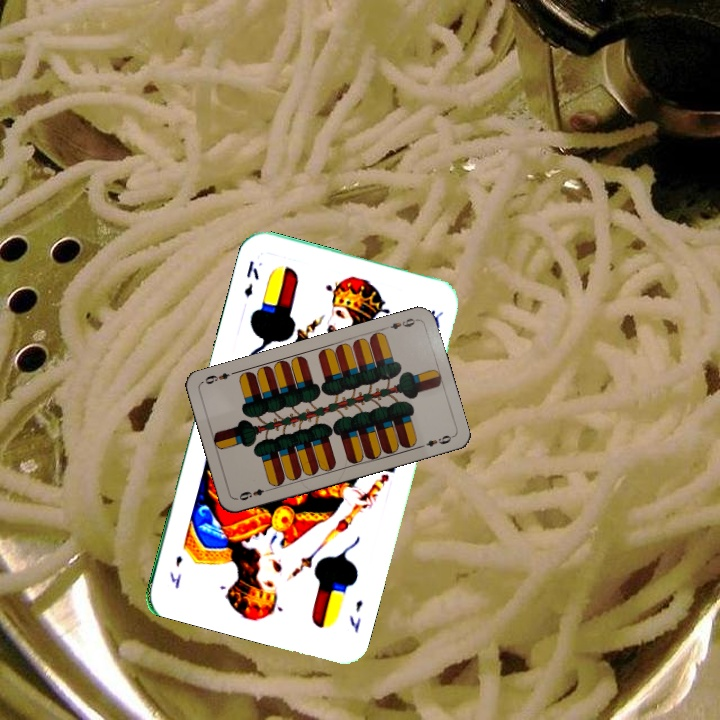E9: (233, 484, 273, 503), (380, 314, 420, 332)
EK: (240, 256, 262, 299), (345, 596, 365, 636)
